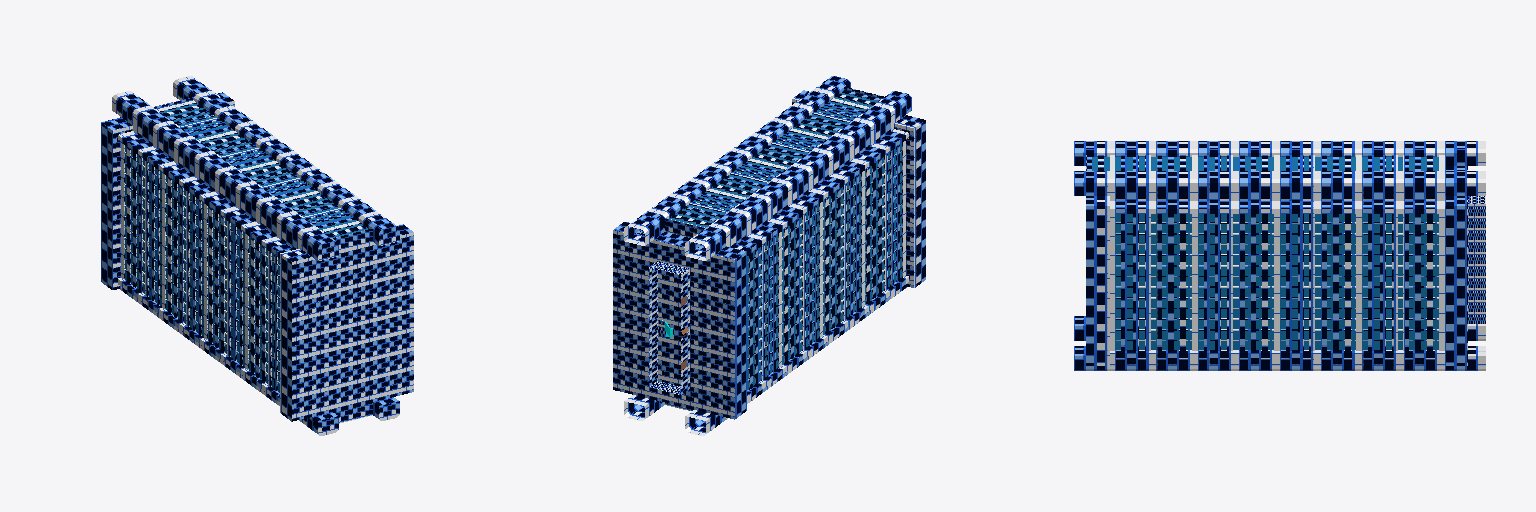
The picture shows the model from 3 angles: view 1: azimuth 30°, elevation 25°; view 2: azimuth 150°, elevation 25°; view 3: azimuth 270°, elevation 25°; orthographic projection.
Visible parts, largest first — view 1: Wall_07, Wall_04, Wall_01, Glass_01, Wall_02, Wall_06, Wall_03, Glass_02, Wall_05; view 2: Wall_07, Wall_01, Wall_04, Glass_01, Wall_02, Wall_03, Wall_06, wall_2_01, Glass_02, Wall_05; view 3: Wall_04, Wall_01, Glass_01, Wall_02, Wall_03, Wall_05, Wall_06, Glass_02, wall_2_01.
Part boxes in pixels (bbox=[...]): Wall_07: bbox=[113, 97, 413, 435]; Wall_04: bbox=[121, 143, 277, 391]; Wall_01: bbox=[112, 76, 398, 433]; Glass_01: bbox=[125, 146, 279, 392]; Wall_02: bbox=[118, 126, 299, 401]; Wall_06: bbox=[156, 100, 372, 420]; Wall_03: bbox=[101, 92, 412, 421]; Glass_02: bbox=[160, 104, 367, 237]; Wall_05: bbox=[124, 152, 279, 383]; Wall_07: bbox=[613, 87, 913, 419]; Wall_01: bbox=[624, 76, 911, 435]; Wall_04: bbox=[749, 141, 905, 389]; Glass_01: bbox=[747, 144, 901, 389]; Wall_02: bbox=[639, 124, 908, 399]; Wall_03: bbox=[614, 90, 925, 418]; Wall_06: bbox=[671, 90, 880, 227]; wall_2_01: bbox=[649, 261, 689, 394]; Glass_02: bbox=[670, 93, 877, 227]; Wall_05: bbox=[747, 150, 902, 381]; Wall_04: bbox=[1110, 214, 1444, 350]; Wall_01: bbox=[1074, 141, 1485, 370]; Glass_01: bbox=[1115, 214, 1438, 349]; Wall_02: bbox=[1110, 196, 1444, 357]; Wall_03: bbox=[1086, 166, 1467, 365]; Wall_05: bbox=[1115, 222, 1438, 340]; Wall_06: bbox=[1087, 155, 1444, 170]; Glass_02: bbox=[1092, 157, 1438, 170]; wall_2_01: bbox=[1468, 196, 1485, 323].
Bounding box in the file's own units: 1440 × 2160 × 4200.
5 materials, 1 textured.